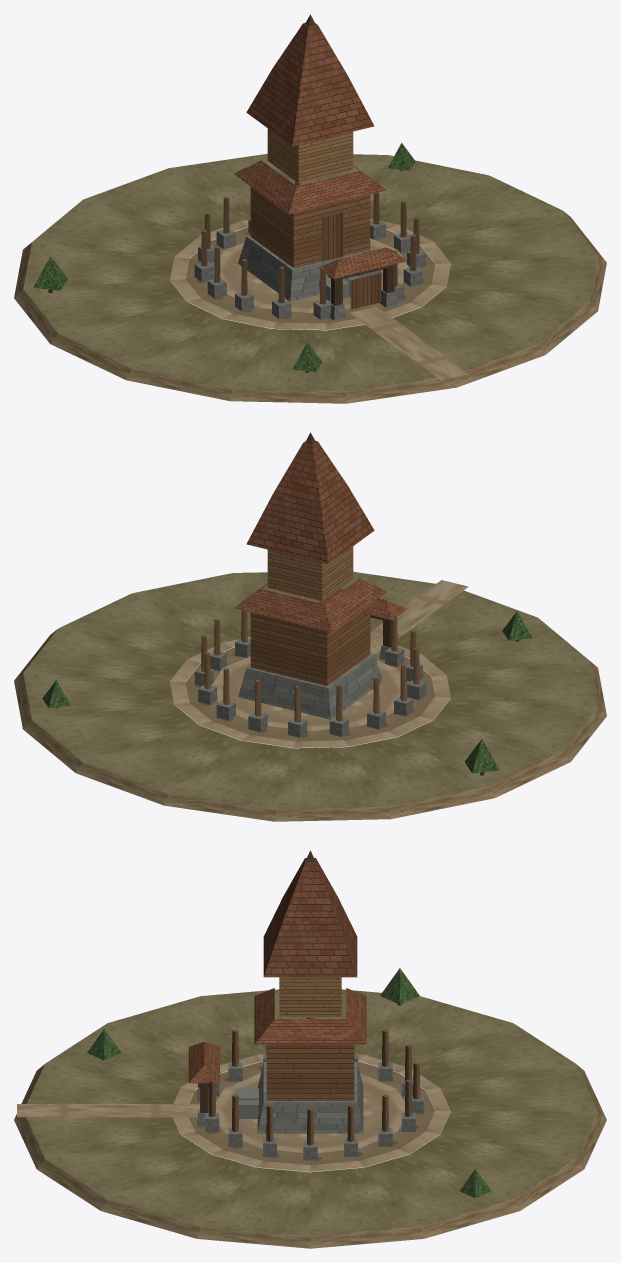
The model's file is keep_small_lod2.glb.
The picture shows the model from 3 angles, top to bottom: view 1: azimuth 30°, elevation 25°; view 2: azimuth 150°, elevation 25°; view 3: azimuth 270°, elevation 25°; orthographic projection.
Visible parts, largest first — view 1: keep_small_lod2; view 2: keep_small_lod2; view 3: keep_small_lod2.
Part boxes in pixels (<box>): keep_small_lod2: <box>14,14,606,403</box>; keep_small_lod2: <box>14,432,606,821</box>; keep_small_lod2: <box>14,850,606,1248</box>.
Size of the model in its own units: 1.89 by 0.9261 by 1.84.
1 material, 1 textured.
